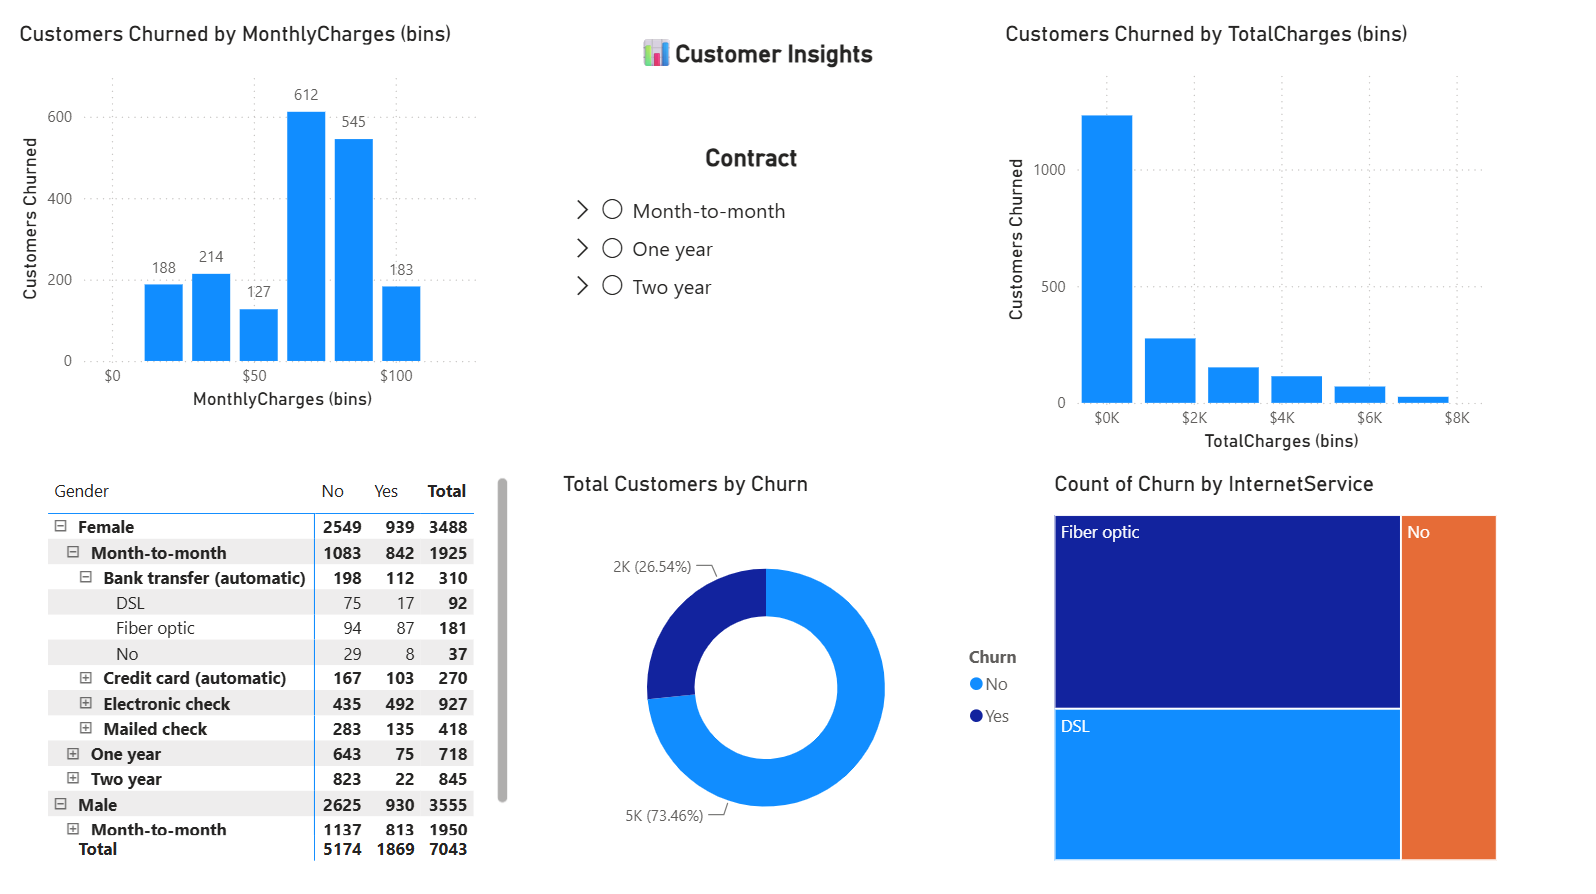

The page's visual inventory and layout, read from the dashboard file:
{"tool":"powerbi","page":{"name":"Page 2","canvas":[1280,720],"ordinal":1},"visuals":[{"type":"clusteredColumnChart","fields":{"Category":["Customer Churn Analysis.MonthlyCharges (bins)"],"Y":["Customer Churn Analysis.Customers Churned"]},"box":[13.6,18.3,375,313.8],"z":0},{"type":"clusteredColumnChart","fields":{"Category":["Customer Churn Analysis.TotalCharges (bins)"],"Y":["Customer Churn Analysis.Customers Churned"]},"box":[796.4,18.3,390,347],"z":2000},{"type":"pivotTable","fields":{"Rows":["Customer Churn Analysis.Gender","Customer Churn Analysis.Contract","Customer Churn Analysis.PaymentMethod","Customer Churn Analysis.InternetService"],"Columns":["Customer Churn Analysis.Churn"],"Values":["Customer Churn Analysis.Total Customers"]},"box":[36.3,375.9,375,314],"z":3000},{"type":"donutChart","fields":{"Category":["Customer Churn Analysis.Churn"],"Y":["Customer Churn Analysis.Total Customers"]},"box":[444.4,375.9,390,314],"z":4001},{"type":"treemap","fields":{"Group":["Customer Churn Analysis.InternetService"],"Values":["CountNonNull(Customer Churn Analysis.Churn)"]},"box":[834.4,375.9,361,314],"z":4002},{"type":"listSlicer","fields":{"Values":["Customer Churn Analysis.Contract","Customer Churn Analysis.InternetService","Customer Churn Analysis.Gender"]},"box":[451.1,116.7,296.7,162.2],"z":4003},{"type":"actionButton","title":"📊Customer Insights","box":[510,28.6,235.7,38.6],"z":4004}]}

Visuals, with their boxes in screenshot pixels (x1, y1, x2, y2), scaled from the page's 1280x720 canvas onto the 1596x894 screenshot:
clusteredColumnChart - Customer Churn Analysis.MonthlyCharges (bins) x Customer Churn Analysis.Customers Churned: <region>17, 23, 485, 412</region>
clusteredColumnChart - Customer Churn Analysis.TotalCharges (bins) x Customer Churn Analysis.Customers Churned: <region>993, 23, 1479, 454</region>
pivotTable - Customer Churn Analysis.Gender x Customer Churn Analysis.Contract: <region>45, 467, 513, 857</region>
donutChart - Customer Churn Analysis.Churn x Customer Churn Analysis.Total Customers: <region>554, 467, 1040, 857</region>
treemap - Customer Churn Analysis.InternetService x CountNonNull(Customer Churn Analysis.Churn): <region>1040, 467, 1491, 857</region>
listSlicer - Customer Churn Analysis.Contract x Customer Churn Analysis.InternetService: <region>562, 145, 932, 346</region>
"📊Customer Insights" actionButton: <region>636, 36, 930, 83</region>
